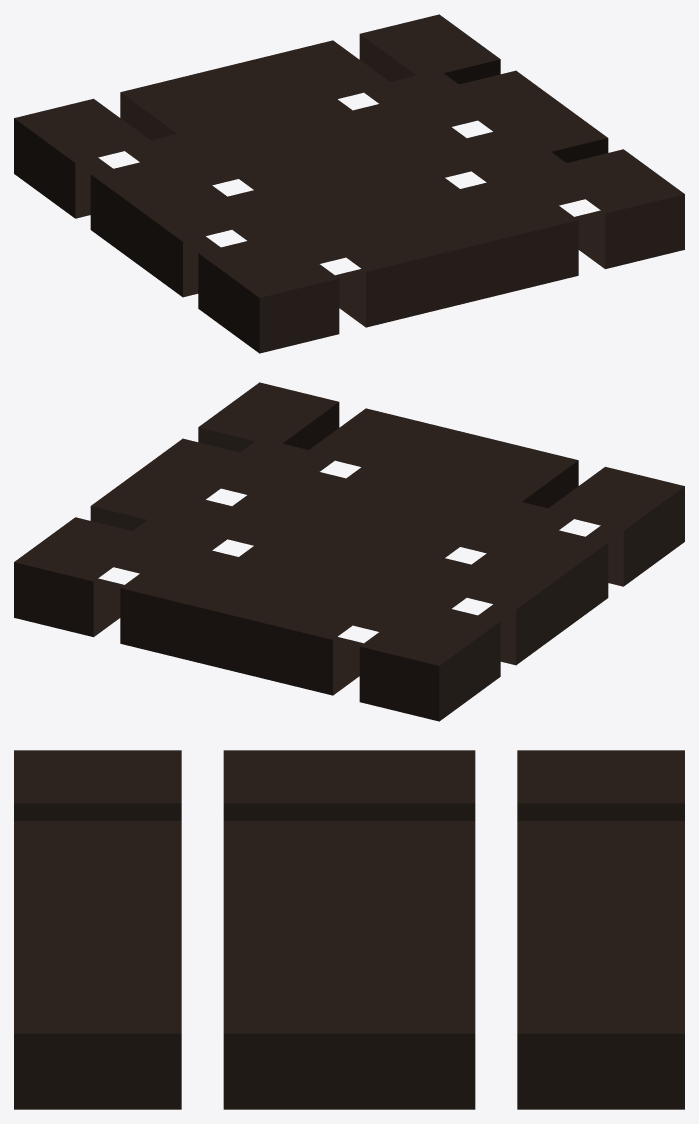
The model's file is spacesolar.obj.
The picture shows the model from 3 angles, top to bottom: view 1: azimuth 30°, elevation 25°; view 2: azimuth 150°, elevation 25°; view 3: azimuth 270°, elevation 25°; orthographic projection. The views are drawn at different scales.
Bounding box in the file's own units: 1.6 × 0.2 × 1.6.
